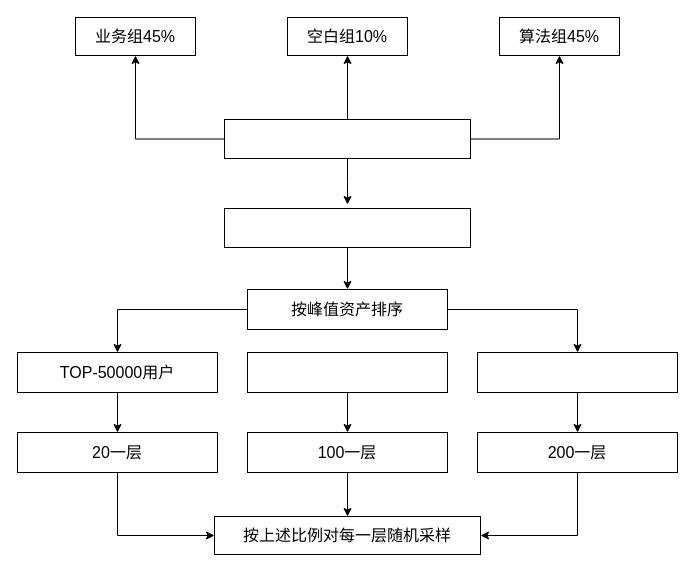
This 695x572 diagram has some shape labels left out. Each missing label, with the centre of its shape:
TOP-(50001-200000)用户: the point at 347,372
TOP-200001+用户: the point at 577,372
低效户（2年峰值资产大于0）: the point at 347,138
客户号，峰值资产: the point at 347,228
